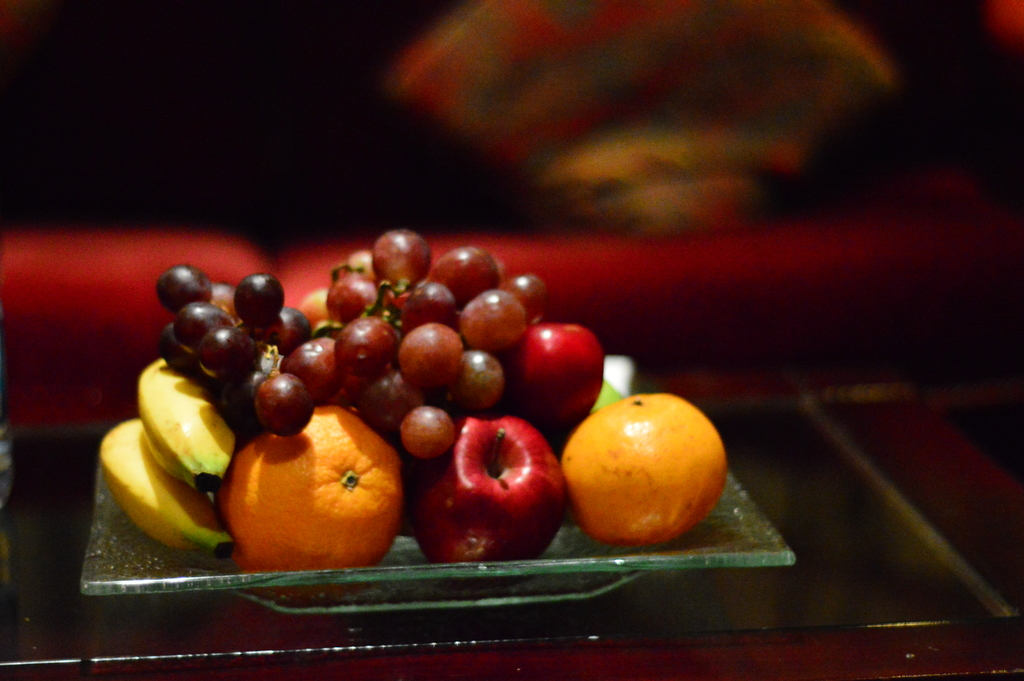Apple: (403, 417, 576, 568), (501, 318, 604, 424)
